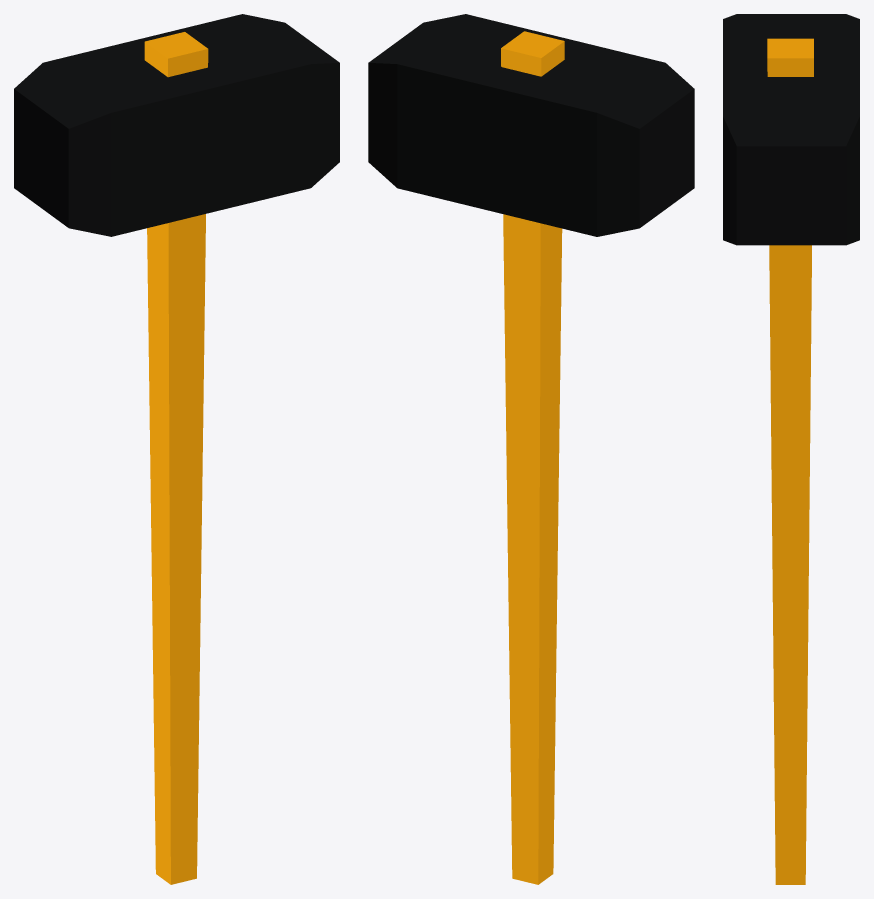
File: sledge hammer.obj
3 views of the same model, side by side, from view 1: azimuth 30°, elevation 25°; view 2: azimuth 150°, elevation 25°; view 3: azimuth 270°, elevation 25° (orthographic).
Parts seen in each view (by area): view 1: Cube; view 2: Cube; view 3: Cube.
Part boxes in pixels (bbox=[...]): Cube: bbox=[14, 14, 339, 884]; Cube: bbox=[368, 14, 694, 884]; Cube: bbox=[723, 14, 859, 884].
Size of the model in its own units: 0.3073 by 0.9 by 0.1344.
